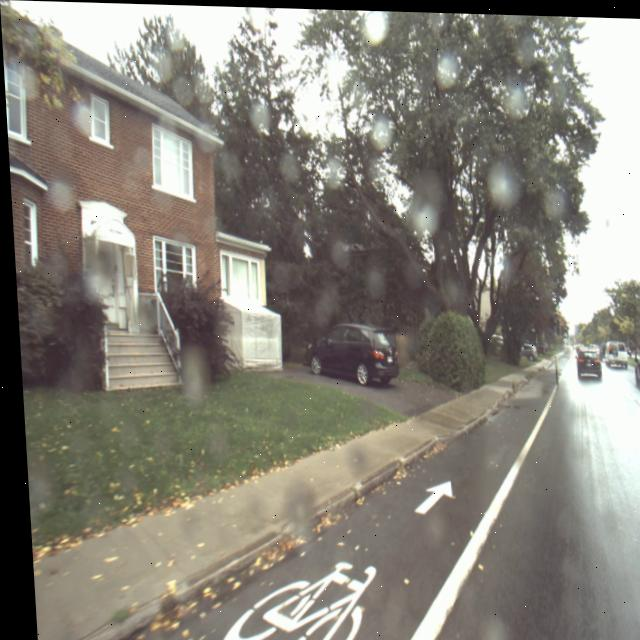car: (298, 319, 397, 385), (570, 346, 599, 378), (600, 338, 624, 366), (628, 345, 640, 389), (517, 339, 533, 359)
